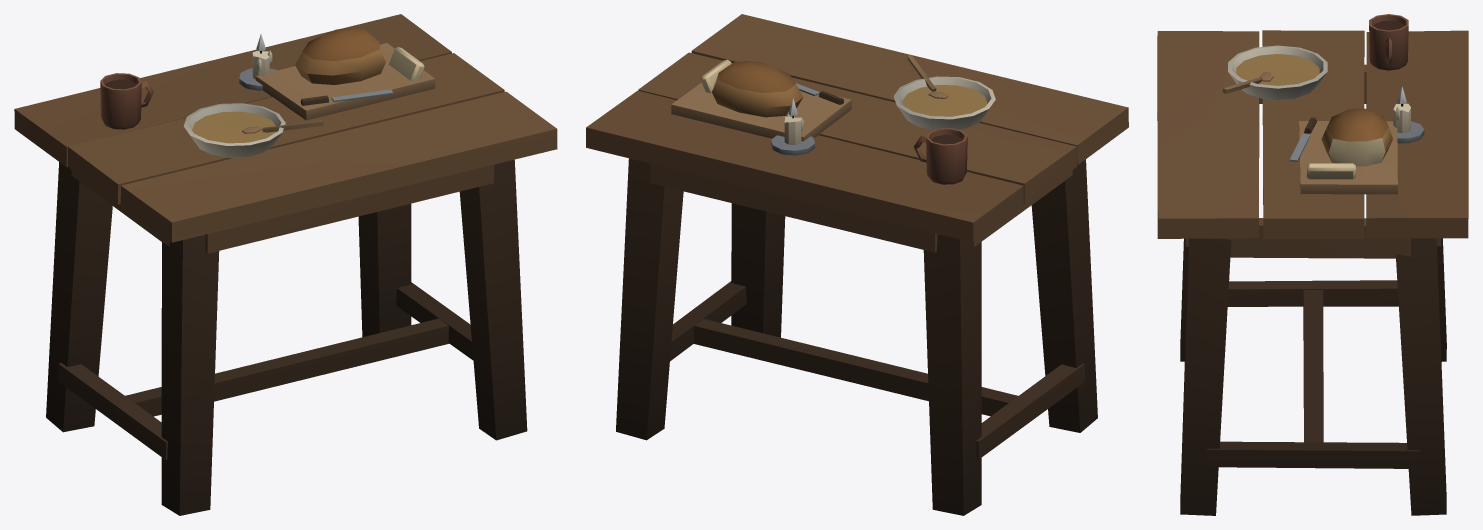
Rendered from ph_int_table.glb.
3 renders of one model, left to right at view 1: azimuth 30°, elevation 25°; view 2: azimuth 150°, elevation 25°; view 3: azimuth 270°, elevation 25°, orthographic.
Parts seen in each view (by area): view 1: ph_int_table; view 2: ph_int_table; view 3: ph_int_table.
Part boxes in pixels (left/top/right/bottom): ph_int_table: left=14, top=14, right=557, bottom=515; ph_int_table: left=586, top=14, right=1128, bottom=515; ph_int_table: left=1157, top=14, right=1468, bottom=515.
Size of the model in its own units: 1 by 0.8862 by 0.701.
